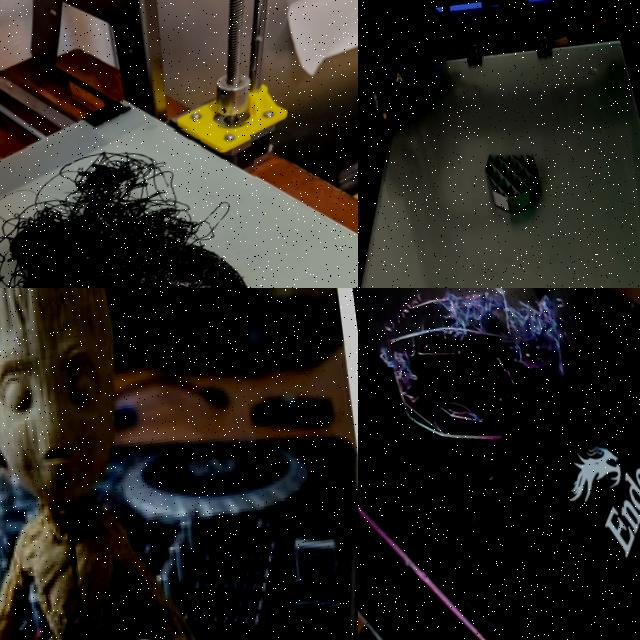spaghetti: (0, 118, 281, 288), (438, 288, 582, 396), (366, 319, 424, 415), (438, 384, 489, 443)
